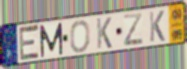E: (19, 24, 41, 63)
K: (95, 16, 113, 51), (148, 10, 166, 44)
M: (39, 21, 64, 59)
O: (69, 19, 91, 54)
Z: (122, 11, 145, 47)
